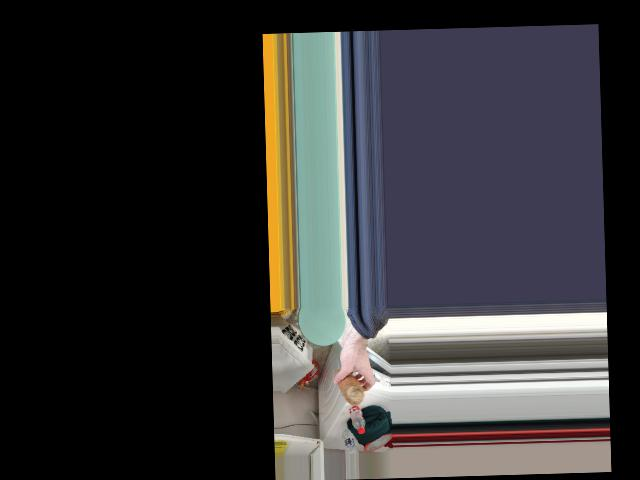sweet_potato: (332, 364, 365, 403)
